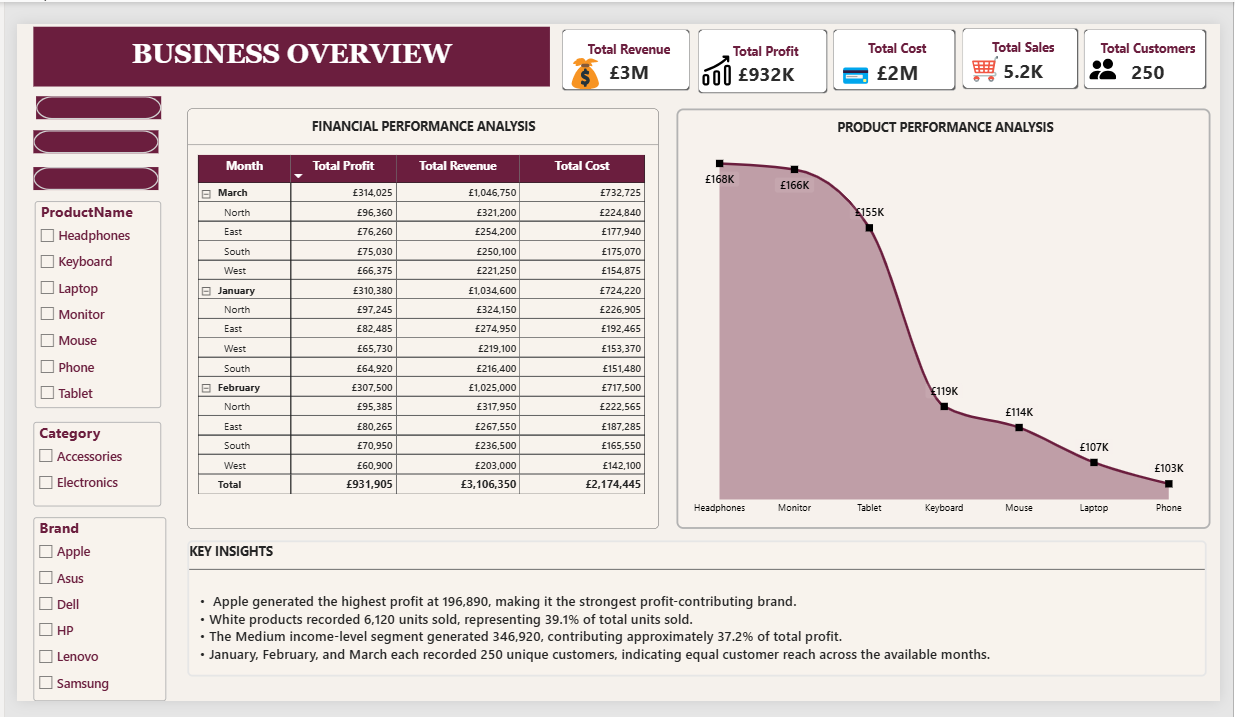

The page's visual inventory and layout, read from the dashboard file:
{"tool":"powerbi","page":{"name":"BUSINESS OVERVIEW","canvas":[1920,1080],"ordinal":0},"visuals":[{"type":"cardVisual","fields":{"Data":["Sales.Total Revenue"]},"box":[869.6,8.7,204.3,97.8],"z":0,"group":"g1"},{"type":"slicer","fields":{"Values":["Products.Brand"]},"box":[26.1,787,212.1,293.6],"z":2000},{"type":"slicer","fields":{"Values":["Products.ProductName"]},"box":[28.3,282.6,202.2,330.4],"z":3000},{"type":"pivotTable","title":"FINANCIAL PERFORMANCE ANALYSIS","fields":{"Values":["Sales.Total Profit","Sales.Total Revenue","Sales.Total Cost"],"Rows":["DateTable.Month Name","Customers.Region"]},"box":[271.2,134.6,752.4,670.9],"z":4000},{"type":"lineChart","title":"PRODUCT PERFORMANCE ANALYSIS","fields":{"Category":["Products.ProductName"],"Y":["Sales.Total Profit"]},"box":[1052.2,134.6,852.4,670.9],"z":5000},{"type":"cardVisual","fields":{"Data":["Sales.Total Profit"]},"box":[1087.2,8.5,206.4,97.9],"z":8000,"group":"g2"},{"type":"cardVisual","fields":{"Data":["Sales.Total Cost"]},"box":[1302.2,8.7,195.7,97.8],"z":9000,"group":"g3"},{"type":"cardVisual","fields":{"Data":["Sales.Total Customers"]},"box":[1702.1,8.5,195.7,97.9],"z":10000,"group":"g5"},{"type":"cardVisual","fields":{"Data":["Sales.Total Sales"]},"box":[1508.5,8.5,178.7,93.6],"z":11000,"group":"g4"},{"type":"textbox","box":[25.5,4.3,812.8,102.1],"z":14000},{"type":"slicer","fields":{"Values":["Products.Category"]},"box":[26.1,634.8,204.3,134.8],"z":14001},{"type":"group","id":"g1","title":"Group 1","box":[864.1,8.7,209.8,97.8],"z":14002},{"type":"group","id":"g2","title":"Group 2","box":[1087.2,8.5,206.4,97.9],"z":14003},{"type":"group","id":"g3","title":"Group 3","box":[1302.2,8.7,195.7,97.8],"z":14004},{"type":"group","id":"g4","title":"Group 4","box":[1508.5,8.5,178.7,93.6],"z":14005},{"type":"group","id":"g5","title":"Group 5","box":[1702.1,8.5,195.7,97.9],"z":14006},{"type":"textbox","title":"KEY INSIGHTS","box":[271.7,823.9,1626.1,217.4],"z":14007},{"type":"actionButton","box":[30.4,115.2,199.8,36.7],"z":14008},{"type":"actionButton","box":[26.1,169.6,199.8,36.7],"z":14009},{"type":"actionButton","box":[26.1,228.3,199.8,36.7],"z":14010},{"type":"image","box":[1711.2,44.7,43.2,57.4],"z":18000,"group":"g5"},{"type":"image","box":[864.1,49.8,66,46.8],"z":19000,"group":"g1"},{"type":"image","box":[1515.4,51.1,56.8,41.6],"z":20000,"group":"g4"},{"type":"image","box":[1087.4,41.5,58.7,59.6],"z":20001,"group":"g2"},{"type":"image","box":[1308.5,52.6,58.9,45.9],"z":20002,"group":"g3"}]}

Visuals, with their boxes on the page's 1920x1080 design canvas (x1, y1, x2, y2). These are canvas units, not pixel positions in the 1235x717 screenshot, which may show the page scaled, cropped or inside an application window:
cardVisual - Sales.Total Revenue: [870,9,1074,106]
slicer - Products.Brand: [26,787,238,1081]
slicer - Products.ProductName: [28,283,230,613]
"FINANCIAL PERFORMANCE ANALYSIS" pivotTable: [271,135,1024,806]
"PRODUCT PERFORMANCE ANALYSIS" lineChart: [1052,135,1905,806]
cardVisual - Sales.Total Profit: [1087,8,1294,106]
cardVisual - Sales.Total Cost: [1302,9,1498,106]
cardVisual - Sales.Total Customers: [1702,8,1898,106]
cardVisual - Sales.Total Sales: [1508,8,1687,102]
textbox: [26,4,838,106]
slicer - Products.Category: [26,635,230,770]
"Group 1" group: [864,9,1074,106]
"Group 2" group: [1087,8,1294,106]
"Group 3" group: [1302,9,1498,106]
"Group 4" group: [1508,8,1687,102]
"Group 5" group: [1702,8,1898,106]
"KEY INSIGHTS" textbox: [272,824,1898,1041]
actionButton: [30,115,230,152]
actionButton: [26,170,226,206]
actionButton: [26,228,226,265]
image: [1711,45,1754,102]
image: [864,50,930,97]
image: [1515,51,1572,93]
image: [1087,42,1146,101]
image: [1308,53,1367,98]
